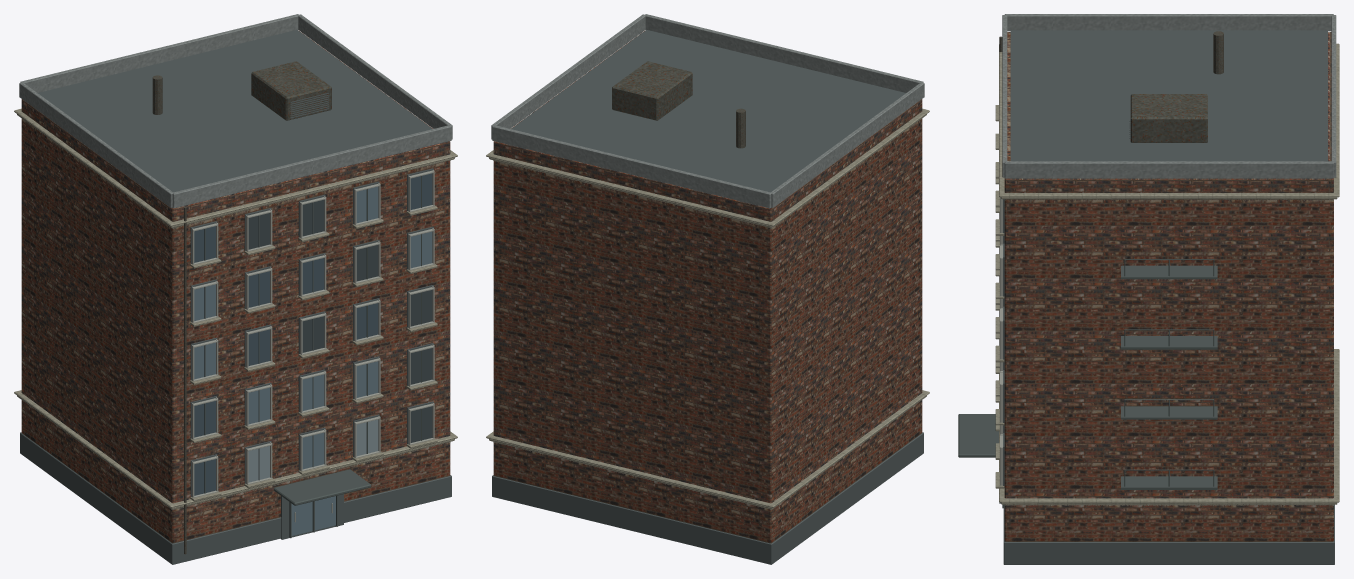
Rendered from masonry.glb.
The picture shows the model from 3 angles, left to right: view 1: azimuth 30°, elevation 25°; view 2: azimuth 150°, elevation 25°; view 3: azimuth 270°, elevation 25°; orthographic projection. The views are drawn at different scales.
Parts seen in each view (by area): view 1: masonry / Photo brick, masonry / Recess shadow and roofing, masonry / Aged concrete, masonry / Weathered limestone, masonry / Muted stone trim, masonry / Glass 1, masonry / Glass 0, masonry / Glass 3, masonry / Weathered industrial steel, masonry / Ironwork, masonry / Glass 2; view 2: masonry / Photo brick, masonry / Recess shadow and roofing, masonry / Aged concrete, masonry / Weathered limestone, masonry / Weathered industrial steel; view 3: masonry / Photo brick, masonry / Recess shadow and roofing, masonry / Aged concrete, masonry / Weathered limestone, masonry / Ironwork, masonry / Weathered industrial steel, masonry / Muted stone trim.
Boxes of the visible parts, bbox=[...] form: masonry / Photo brick: bbox=[21, 30, 450, 543]; masonry / Recess shadow and roofing: bbox=[20, 30, 451, 564]; masonry / Aged concrete: bbox=[19, 14, 452, 208]; masonry / Weathered limestone: bbox=[14, 108, 457, 510]; masonry / Muted stone trim: bbox=[192, 170, 434, 522]; masonry / Glass 1: bbox=[194, 186, 432, 535]; masonry / Glass 0: bbox=[194, 173, 432, 495]; masonry / Glass 3: bbox=[248, 200, 432, 442]; masonry / Weathered industrial steel: bbox=[152, 61, 331, 554]; masonry / Ironwork: bbox=[204, 176, 421, 538]; masonry / Glass 2: bbox=[248, 419, 378, 482]; masonry / Photo brick: bbox=[493, 30, 922, 543]; masonry / Recess shadow and roofing: bbox=[492, 30, 923, 564]; masonry / Aged concrete: bbox=[491, 14, 924, 208]; masonry / Weathered limestone: bbox=[486, 108, 929, 510]; masonry / Weathered industrial steel: bbox=[612, 61, 745, 148]; masonry / Photo brick: bbox=[1004, 32, 1333, 541]; masonry / Recess shadow and roofing: bbox=[1002, 30, 1334, 564]; masonry / Aged concrete: bbox=[1002, 14, 1336, 178]; masonry / Weathered limestone: bbox=[995, 43, 1339, 505]; masonry / Ironwork: bbox=[958, 259, 1217, 503]; masonry / Weathered industrial steel: bbox=[999, 31, 1223, 345]; masonry / Muted stone trim: bbox=[1000, 197, 1002, 485].
Bounding box in the file's own units: 19.75 × 24.45 × 19.7.
Materials: 11 (4 with a texture image).
